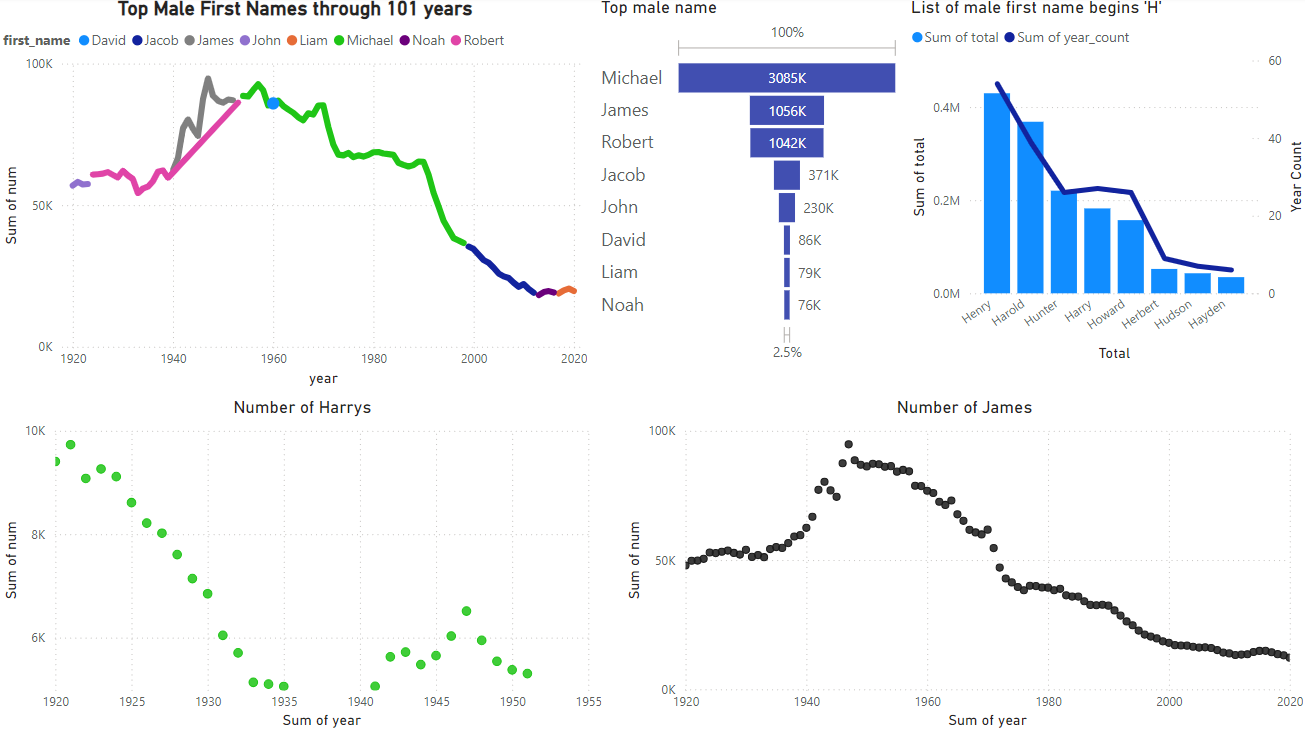

This screenshot's page, from the dashboard's own definition file:
{"tool":"powerbi","page":{"name":"Boy's names","canvas":[1280,720],"ordinal":2},"visuals":[{"type":"funnel","title":"Top male name","fields":{"Y":["Sum(baby_names top_male_name.num)"],"Category":["baby_names top_male_name.first_name"]},"box":[583.6,0,302.2,360.6],"z":0},{"type":"lineChart","title":"Top Male First Names through 101 years","fields":{"Category":["baby_names top_male_name.year"],"Y":["Sum(baby_names top_male_name.num)"],"Series":["baby_names top_male_name.first_name"]},"box":[0,0,580.2,384.8],"z":1000},{"type":"lineStackedColumnComboChart","title":"List of male first name begins ''H''","fields":{"Category":["baby_names h_male_name.first_name"],"Y":["Sum(baby_names h_male_name.total)"],"Y2":["Sum(baby_names h_male_name.year_count)"]},"box":[886.5,0,392.9,360.6],"z":2000},{"type":"scatterChart","title":"Number of Harrys","fields":{"Category":["baby_names cumulative_harrys.cumulative_harrys"],"X":["Sum(baby_names cumulative_harrys.year)"],"Y":["Sum(baby_names cumulative_harrys.num)"]},"box":[0,390.9,594.3,328.4],"z":3000},{"type":"scatterChart","title":"Number of James","fields":{"Category":["baby_names cumulative_james.cumulative_james"],"X":["Sum(baby_names cumulative_james.year)"],"Y":["Sum(baby_names cumulative_james.num)"]},"box":[608.4,390.9,670.9,328.4],"z":4000}]}

Visuals, with their boxes in screenshot pixels (x1, y1, x2, y2), scaled from the page's 1280x720 canvas onto the 1305x730 screenshot:
"Top male name" funnel: Rect(595, 0, 903, 366)
"Top Male First Names through 101 years" lineChart: Rect(0, 0, 592, 390)
"List of male first name begins ''H''" lineStackedColumnComboChart: Rect(904, 0, 1304, 366)
"Number of Harrys" scatterChart: Rect(0, 396, 606, 729)
"Number of James" scatterChart: Rect(620, 396, 1304, 729)
